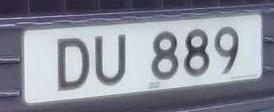8: (147, 24, 183, 90), (179, 22, 215, 83)
9: (210, 21, 244, 76)
D: (52, 32, 92, 95)
U: (91, 32, 131, 91)
